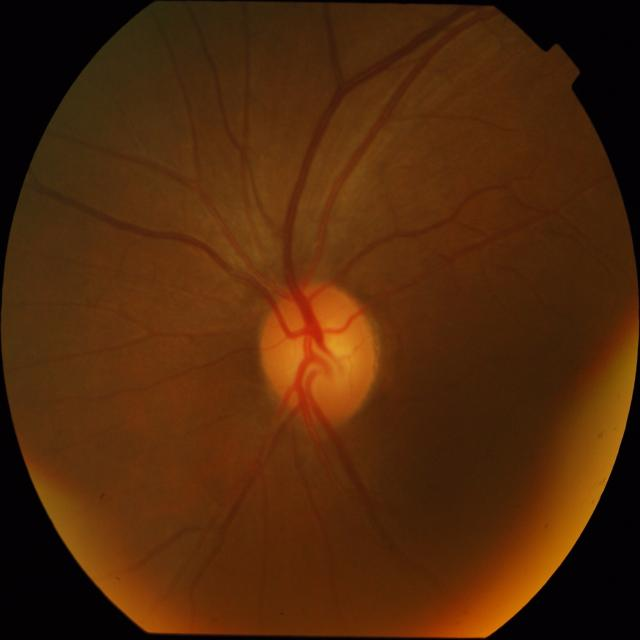OC: (284, 305, 363, 405)
OD: (260, 284, 378, 424)
